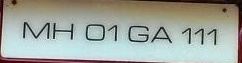character: (21, 20, 50, 41), (51, 20, 74, 41), (127, 24, 150, 43), (84, 22, 105, 42), (149, 26, 173, 43), (106, 23, 118, 42), (180, 26, 192, 44), (193, 27, 205, 45), (206, 27, 217, 46)
